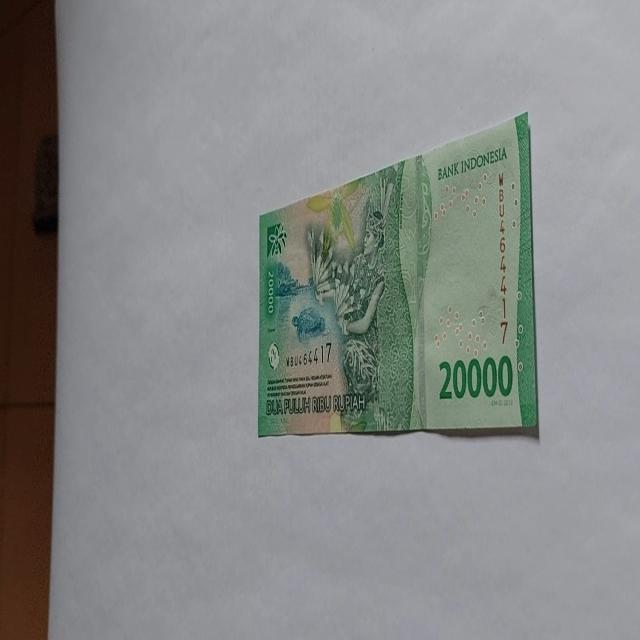dua puluh ribu rupiah: (256, 110, 540, 440)
